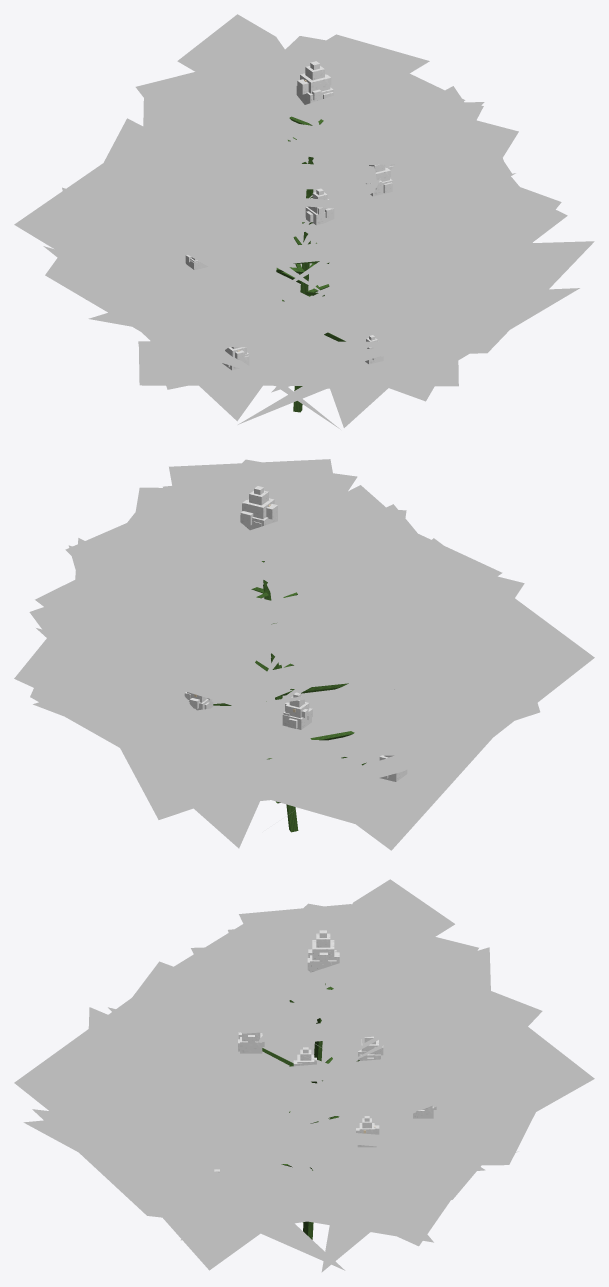
The model's file is plant_2_1_2.obj.
3 views of the same model, one above another, from view 1: azimuth 30°, elevation 25°; view 2: azimuth 150°, elevation 25°; view 3: azimuth 270°, elevation 25° (orthographic). The views are drawn at different scales.
Visible parts, largest first — view 1: model; view 2: model; view 3: model.
Boxes of the visible parts, x1,y1,x2,y2 form: model: (14, 14, 594, 429); model: (14, 459, 594, 850); model: (14, 879, 594, 1272).
Size of the model in its own units: 1.03 by 0.7106 by 1.12.
